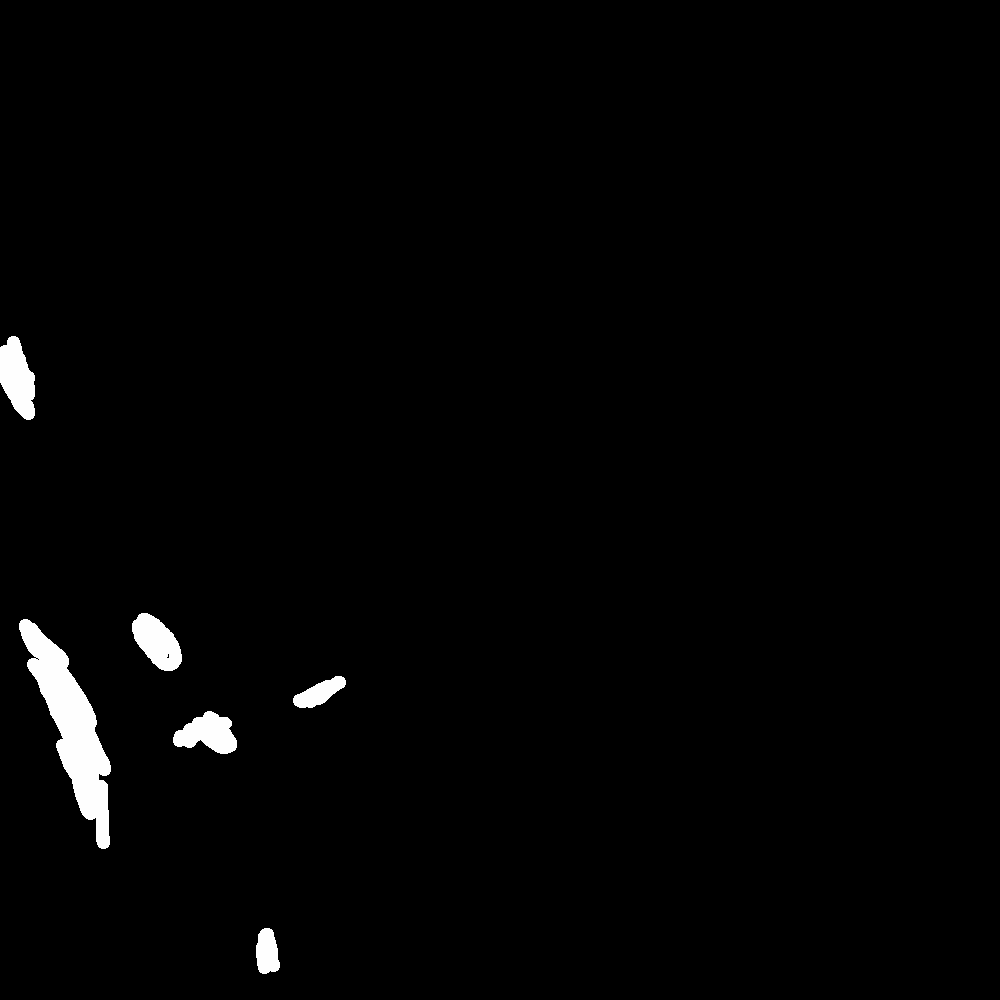illegal: (15, 605, 157, 901), (241, 787, 394, 894), (119, 584, 194, 677), (181, 712, 257, 762), (1, 336, 36, 392), (286, 675, 341, 707)
